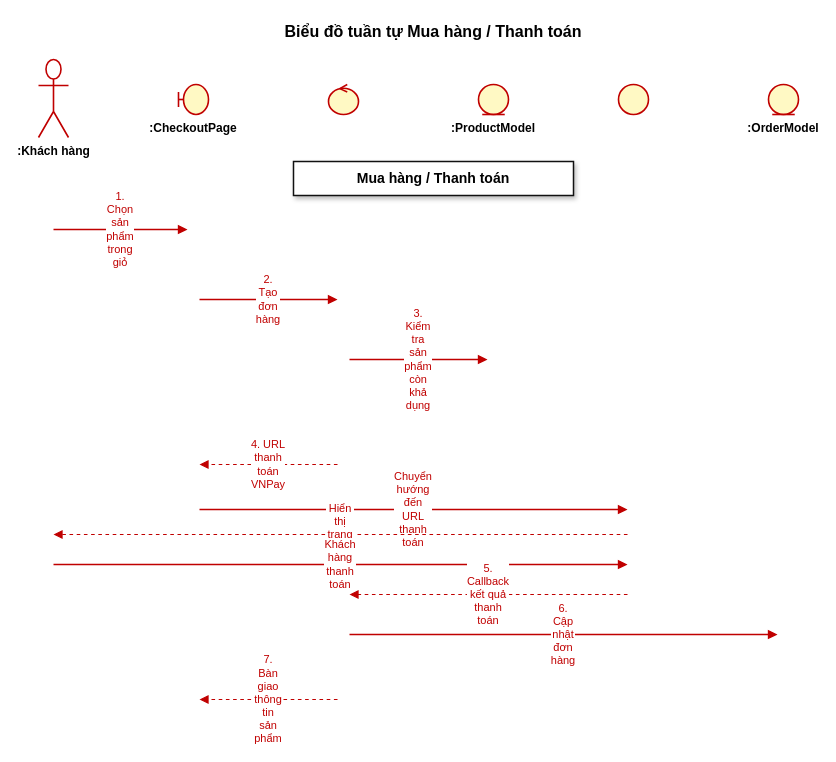
Image size: 836x762. Some labels were removed from this diagram. The centre of each missing label's shape, as x and y in pixels:
":OrderController" goes at pixel 343 99.
":VNPay" goes at pixel 633 99.
